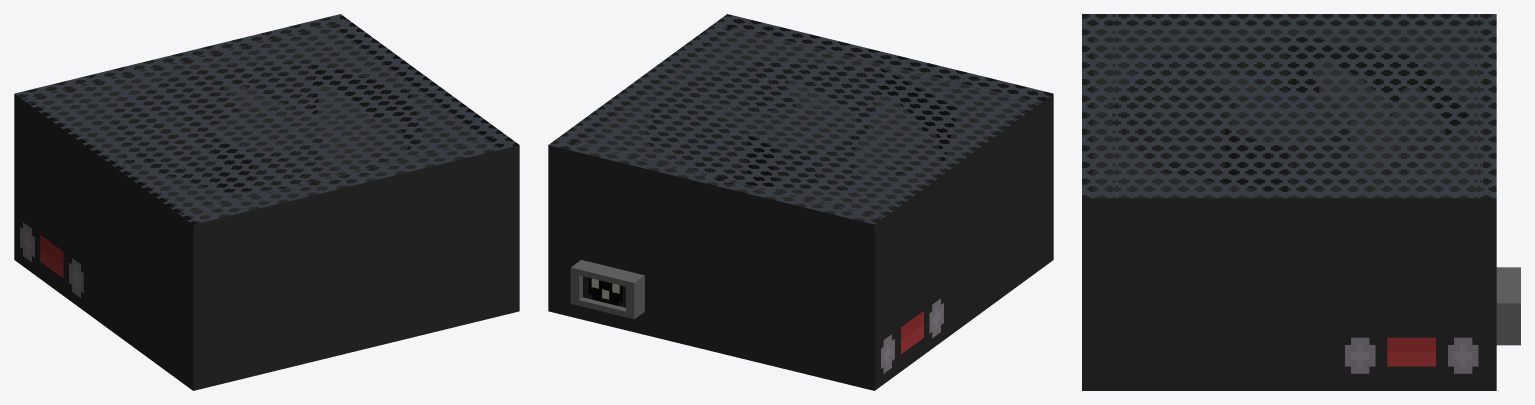
The model's file is Fonte_M.fbx.
3 renders of one model, left to right at view 1: azimuth 30°, elevation 25°; view 2: azimuth 150°, elevation 25°; view 3: azimuth 270°, elevation 25°, orthographic. The views are drawn at different scales.
Visible parts, largest first — view 1: Fonte.M; view 2: Fonte.M; view 3: Fonte.M.
Part boxes in pixels (x1,y1,x2,y2): Fonte.M: [14, 14, 519, 390]; Fonte.M: [548, 14, 1053, 390]; Fonte.M: [1082, 14, 1520, 390].
Size of the model in its own units: 646 by 315 by 650.
